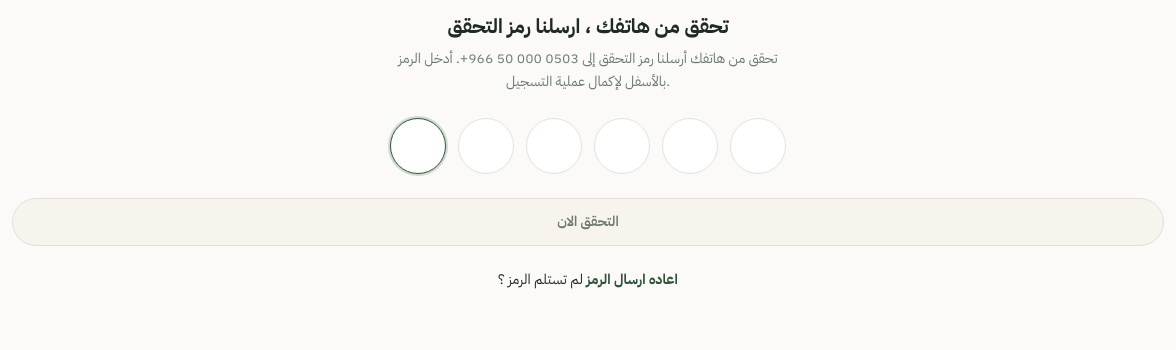
Test case: resend fails at the SMS provider (onboarding) › shows the server’s words and an immediate retry, with no countdown
The image size is (1176, 350).
What coordinates should you click on to do the following:
click the button "اعاده ارسال الرمز"
I would click on:
 (632, 280)
Its box is [586, 270, 678, 290].
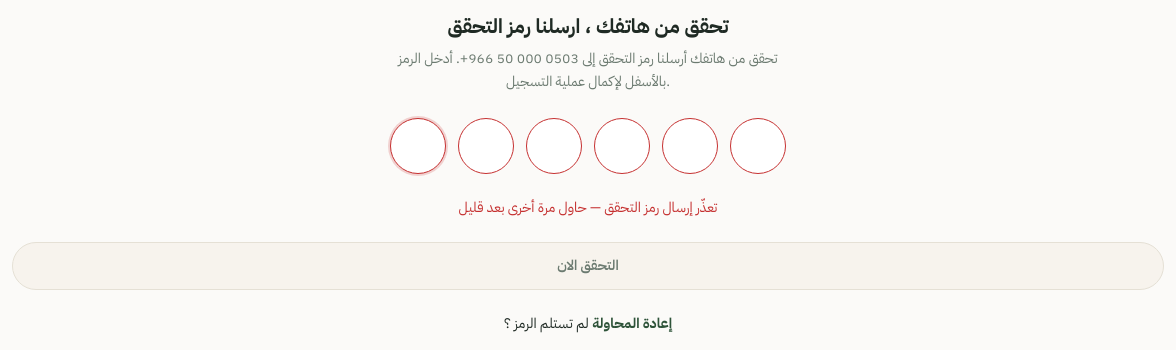
expect the button "إعادة المحاولة" is enabled: met, box [592, 314, 672, 334]
expect the text "تعذّر إرسال رمز التحقق — حاول مرة أخرى بعد قليل" is shown: met, box [459, 196, 717, 218]
